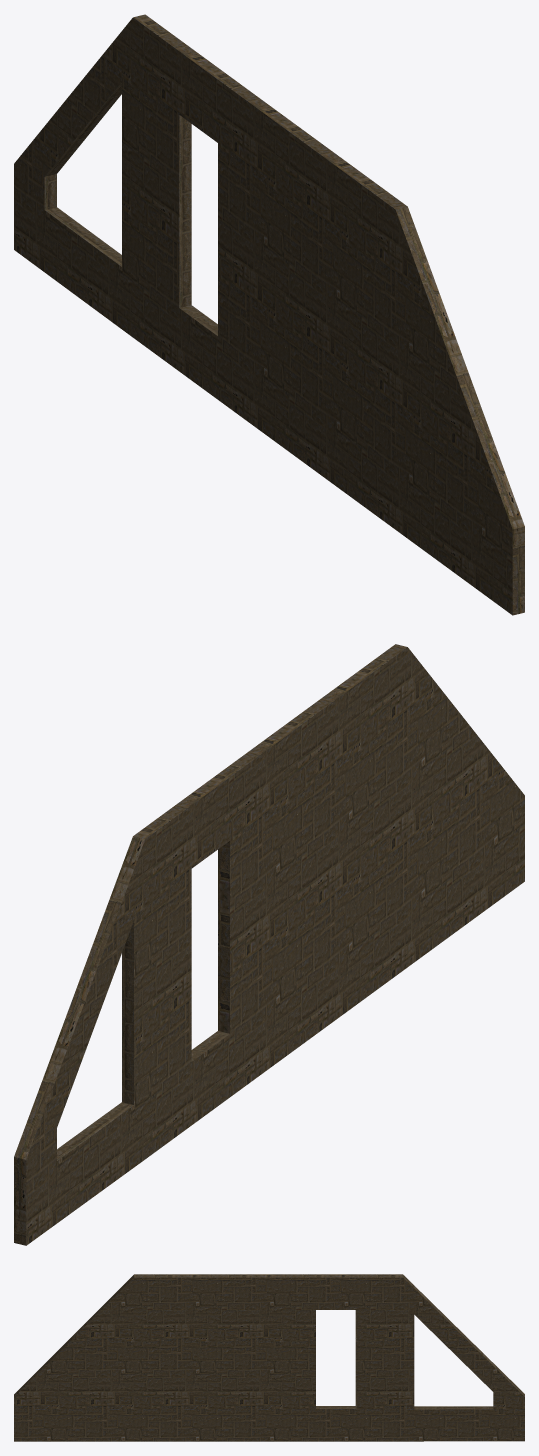
File: Office_BackWall.fbx
3 renders of one model, top to bottom at view 1: azimuth 30°, elevation 25°; view 2: azimuth 150°, elevation 25°; view 3: azimuth 270°, elevation 25°, orthographic. The views are drawn at different scales.
Parts seen in each view (by area): view 1: Cube.007; view 2: Cube.007; view 3: Cube.007.
Boxes of the visible parts, bbox=[...] form: Cube.007: bbox=[14, 14, 524, 615]; Cube.007: bbox=[14, 644, 524, 1245]; Cube.007: bbox=[14, 1274, 524, 1441].
Size of the model in its own units: 20.97 by 522 by 1473.
